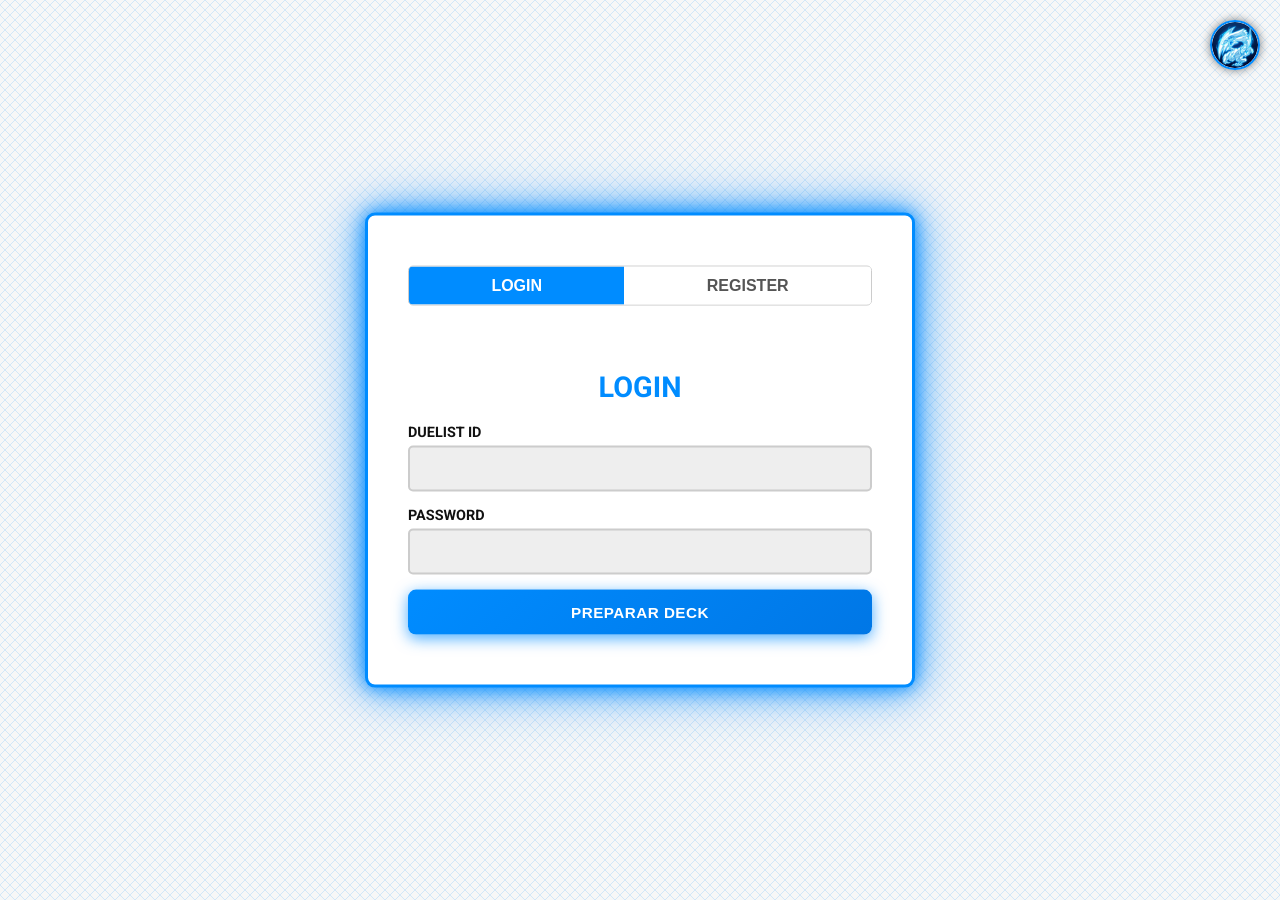
Scenario: AuthPage Component › deve mostrar erro ao falhar no login
Type "wronguser" into the field labelled "DUELIST ID" at coordinates (640, 468), box x1=408 y1=445 x2=872 y2=491
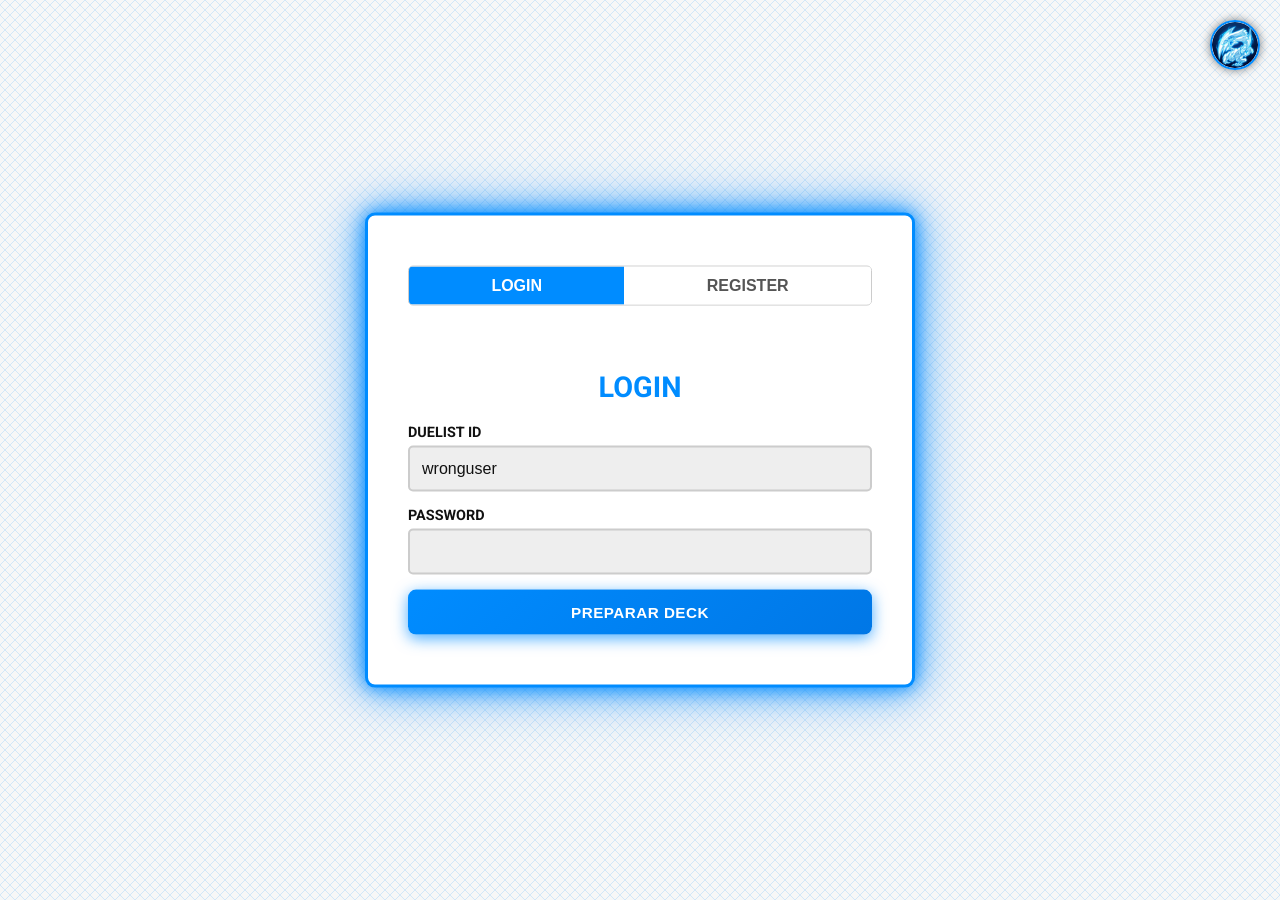
Type "wrongpass" into the password field labelled "PASSWORD" at coordinates (640, 551), box x1=408 y1=528 x2=872 y2=574
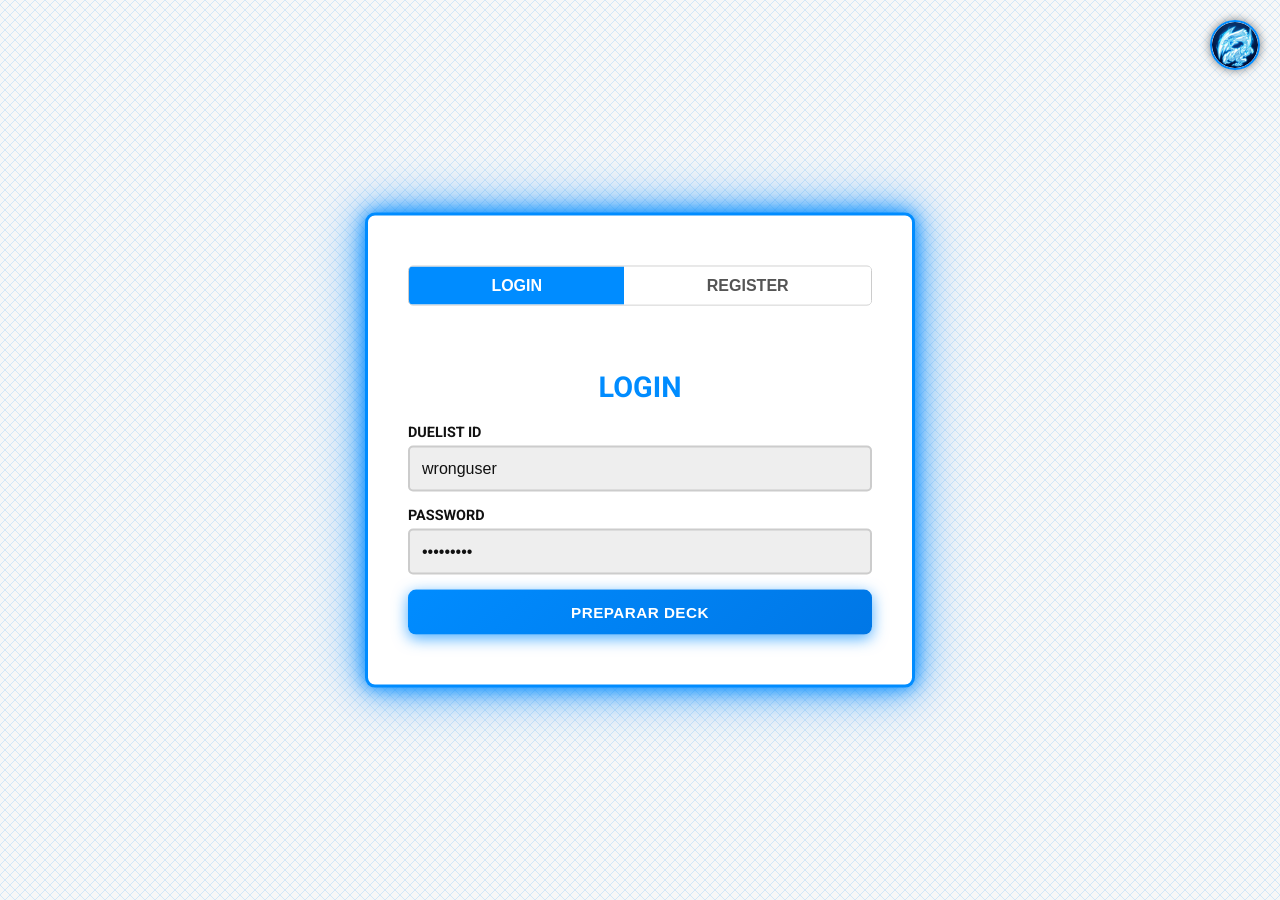
Click the button "PREPARAR DECK" at coordinates (640, 612), box x1=408 y1=589 x2=872 y2=634
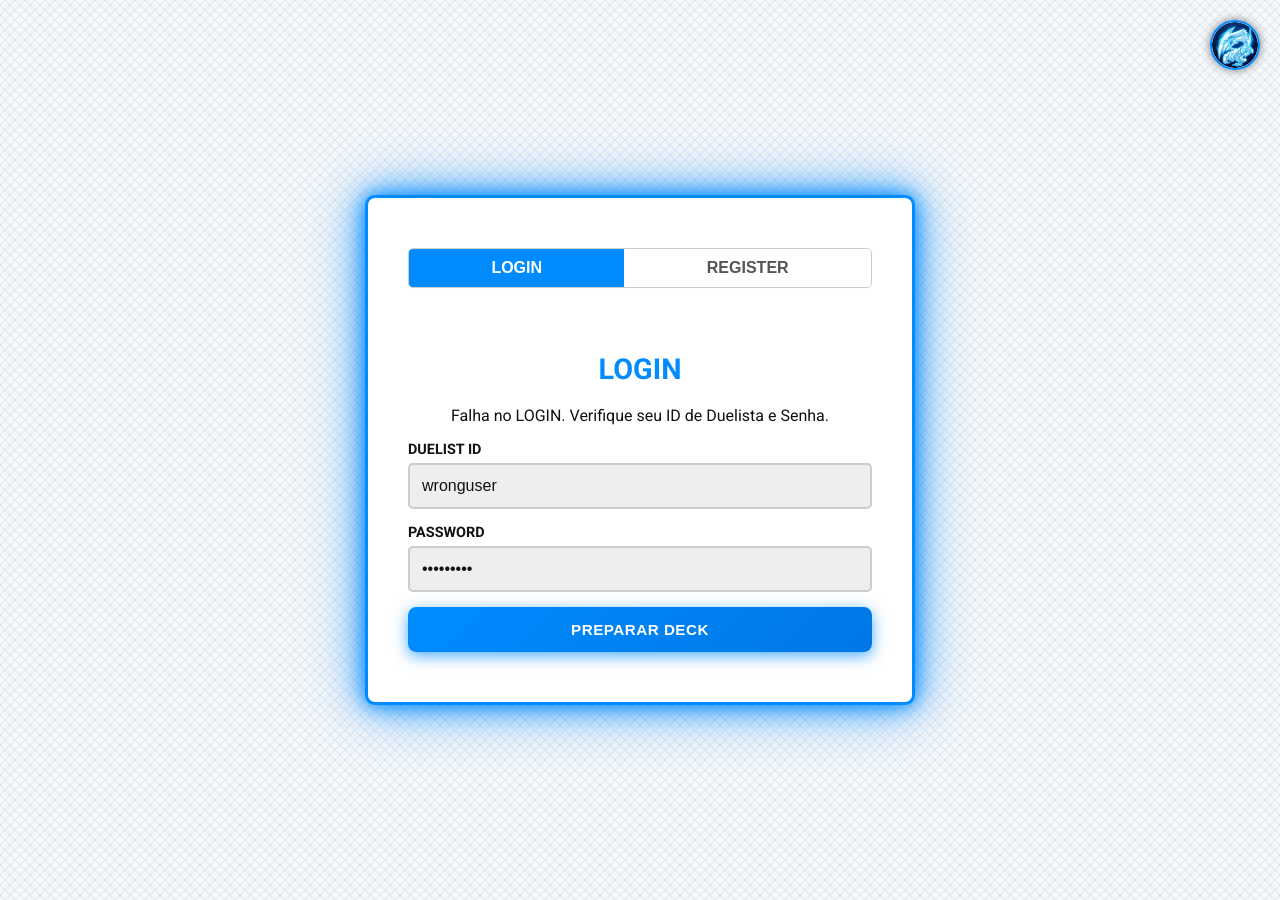
Expected: the text "Falha no LOGIN. Verifique seu ID de Duelista e Senha." is shown, x1=451 y1=406 x2=829 y2=425
